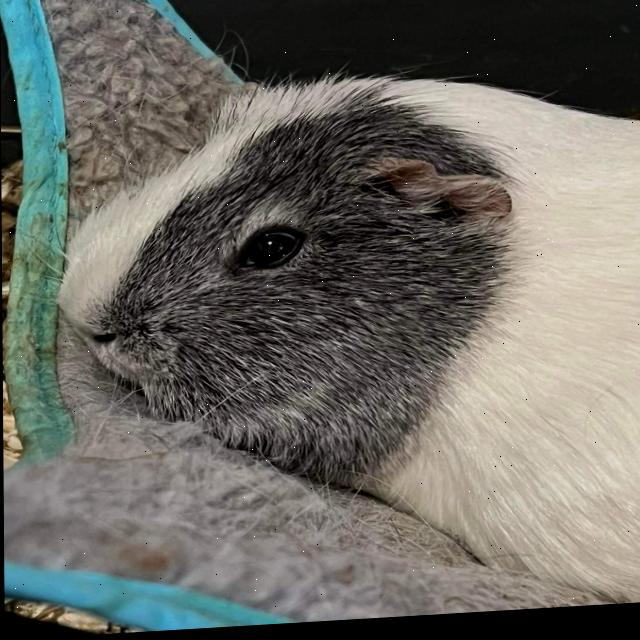guinea pig: (54, 63, 640, 637)
